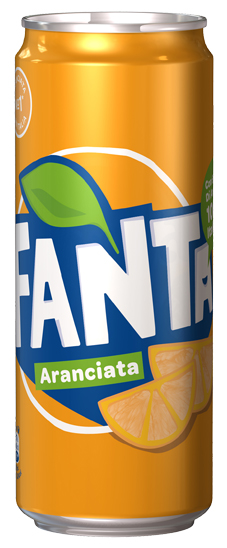Fanta: (6, 6, 219, 540)
